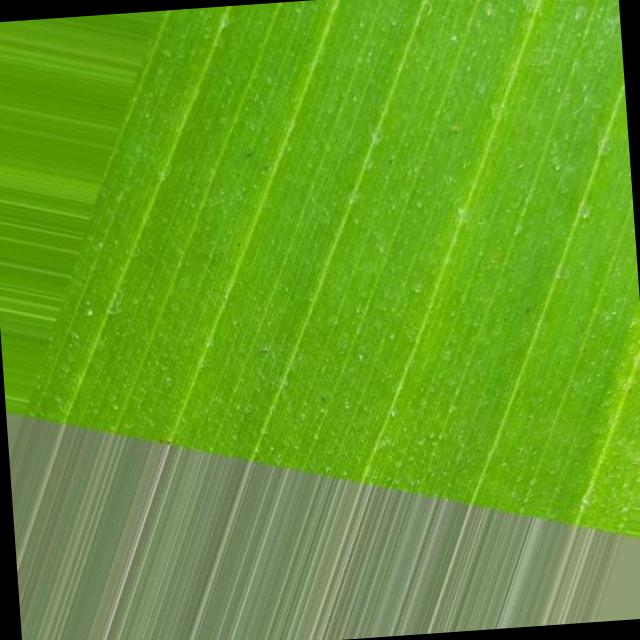Banana_Healthy: (56, 22, 640, 640)
